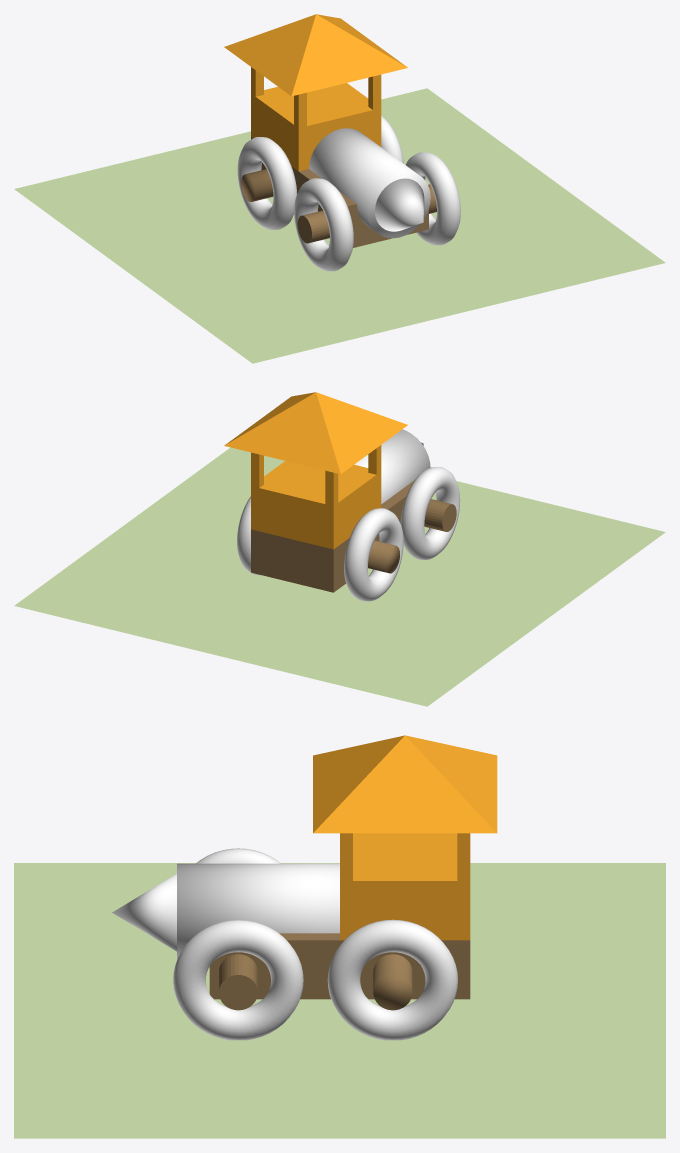
File: Kereta.glb
The picture shows the model from 3 angles, top to bottom: view 1: azimuth 30°, elevation 25°; view 2: azimuth 150°, elevation 25°; view 3: azimuth 270°, elevation 25°; orthographic projection. The views are drawn at different scales.
Visible parts, largest first — view 1: Plane, Cone.001, Cube.001, Cylinder, Torus.002, Torus.003, Torus.004, Cone, Cube, Cylinder.003, Cylinder.004, Torus.000; view 2: Plane, Cone.001, Cube.001, Cube, Torus.003, Torus.002, Cylinder, Cylinder.003, Cylinder.004, Torus.000; view 3: Plane, Cone.001, Cube.001, Cylinder, Torus.004, Torus.000, Cube, Cone, Cylinder.004, Cylinder.003, Torus.002, Cube.005 (+1 smaller).
Part boxes in pixels (bbox=[...]): Plane: bbox=[14, 88, 665, 363]; Cone.001: bbox=[224, 14, 407, 96]; Cube.001: bbox=[251, 83, 381, 171]; Cylinder: bbox=[309, 128, 430, 238]; Torus.002: bbox=[294, 178, 353, 271]; Torus.003: bbox=[237, 137, 296, 229]; Torus.004: bbox=[406, 152, 460, 245]; Cone: bbox=[375, 178, 424, 231]; Cube: bbox=[251, 137, 428, 247]; Cylinder.003: bbox=[297, 184, 436, 243]; Cylinder.004: bbox=[241, 169, 273, 201]; Torus.000: bbox=[381, 116, 403, 163]; Plane: bbox=[14, 447, 665, 706]; Cone.001: bbox=[224, 392, 407, 474]; Cube.001: bbox=[251, 461, 381, 549]; Cube: bbox=[251, 480, 414, 592]; Torus.003: bbox=[344, 508, 403, 601]; Torus.002: bbox=[400, 467, 460, 559]; Cylinder: bbox=[354, 429, 430, 503]; Cylinder.003: bbox=[424, 499, 456, 531]; Cylinder.004: bbox=[368, 540, 399, 573]; Torus.000: bbox=[237, 496, 260, 575]; Plane: bbox=[14, 863, 665, 1138]; Cone.001: bbox=[313, 735, 497, 833]; Cube.001: bbox=[340, 833, 470, 940]; Cylinder: bbox=[177, 863, 339, 959]; Torus.004: bbox=[173, 919, 303, 1040]; Torus.000: bbox=[327, 919, 457, 1040]; Cube: bbox=[209, 933, 470, 999]; Cone: bbox=[112, 874, 176, 951]; Cylinder.004: bbox=[373, 954, 412, 1010]; Cylinder.003: bbox=[219, 954, 257, 1010]; Torus.002: bbox=[196, 848, 280, 863]; Cube.005: bbox=[457, 833, 470, 880].
Bounding box in the file's own units: 10 × 4.54 × 10.
